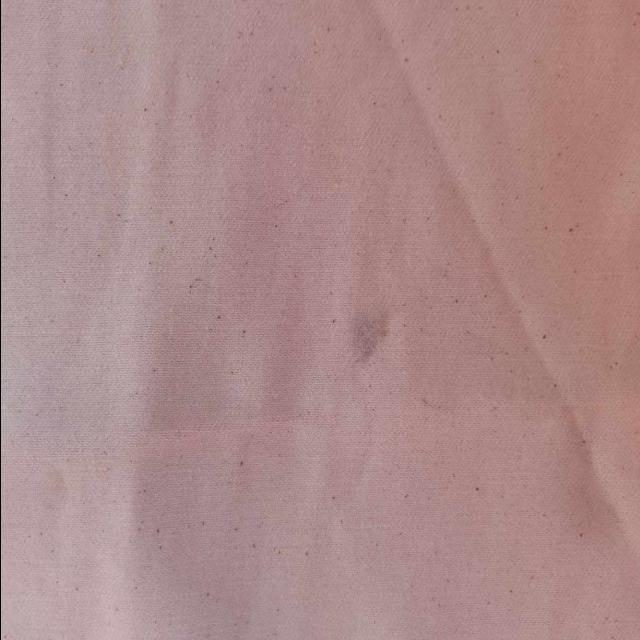taaaches: (330, 287, 406, 366)
